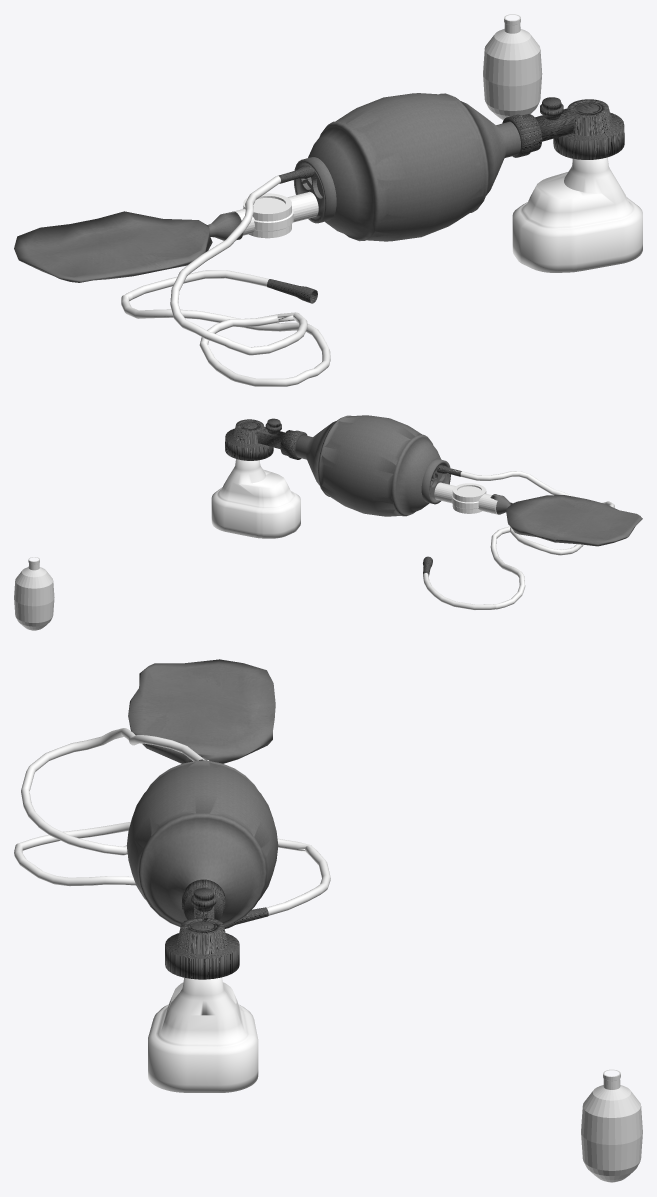
The model's file is ambu-bag.glb.
3 views of the same model, one above another, from view 1: azimuth 30°, elevation 25°; view 2: azimuth 150°, elevation 25°; view 3: azimuth 270°, elevation 25° (orthographic). The views are drawn at different scales.
Parts seen in each view (by area): view 1: Cylinder, Plane.001, OxygenReservoir, Tube, Circle.002, Cylinder.001, Inlet Valve; view 2: Cylinder, Plane.001, OxygenReservoir, Tube, Circle.002, Cylinder.001, Inlet Valve; view 3: Cylinder, OxygenReservoir, Plane.001, Tube, Cylinder.001, Circle.002.
Boxes of the visible parts, x1,y1,x2,y2 form: Cylinder: (293,93,520,241); Plane.001: (512,157,642,272); OxygenReservoir: (14,211,243,282); Tube: (121,165,330,386); Circle.002: (502,97,624,159); Cylinder.001: (483,14,542,119); Inlet Valve: (233,191,318,238); Cylinder: (295,415,450,516); Plane.001: (211,459,300,538); OxygenReservoir: (490,494,642,546); Tube: (423,465,614,609); Circle.002: (225,418,307,460); Cylinder.001: (14,557,54,630); Inlet Valve: (434,482,497,514); Cylinder: (126,761,278,927); OxygenReservoir: (128,659,275,763); Plane.001: (148,977,258,1092); Tube: (14,728,330,928); Cylinder.001: (581,1069,642,1182); Circle.002: (165,879,239,979).
Bounding box in the file's own units: 29.3 × 9.31 × 21.55.
Materials: 4 (3 with a texture image).
